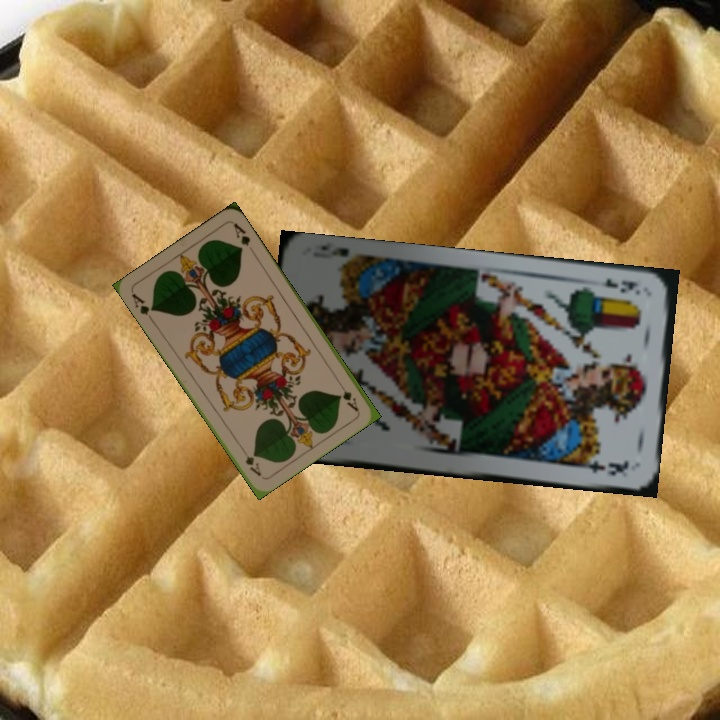EK: (600, 274, 643, 297)
GA: (128, 289, 157, 325), (334, 377, 361, 414)
